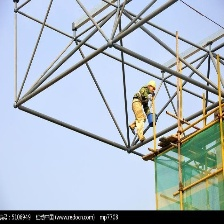person: (130, 79, 157, 142)
